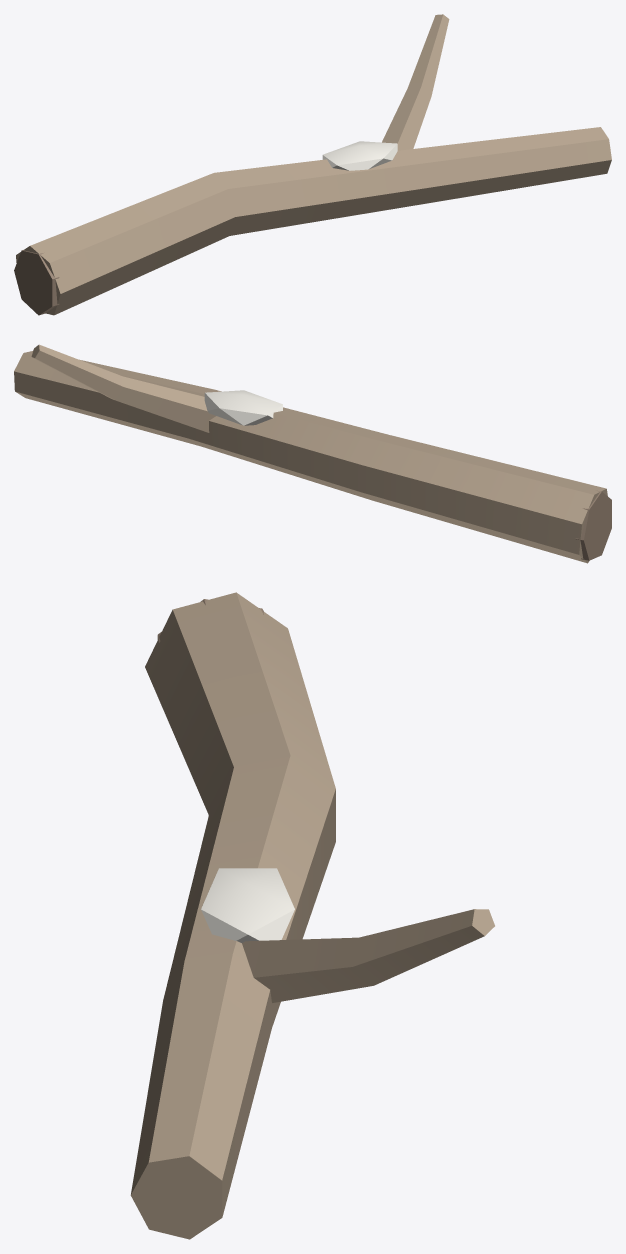
Rendered from saltglass_driftwood.glb.
The picture shows the model from 3 angles, top to bottom: view 1: azimuth 30°, elevation 25°; view 2: azimuth 150°, elevation 25°; view 3: azimuth 270°, elevation 25°; orthographic projection. The views are drawn at different scales.
Parts seen in each view (by area): view 1: saltglass_driftwood; view 2: saltglass_driftwood; view 3: saltglass_driftwood.
Boxes of the visible parts, <box> form: saltglass_driftwood: <box>14,14,611,315</box>; saltglass_driftwood: <box>14,344,611,563</box>; saltglass_driftwood: <box>130,592,494,1239</box>.
Bounding box in the file's own units: 1.88 × 0.4447 × 0.5272.
